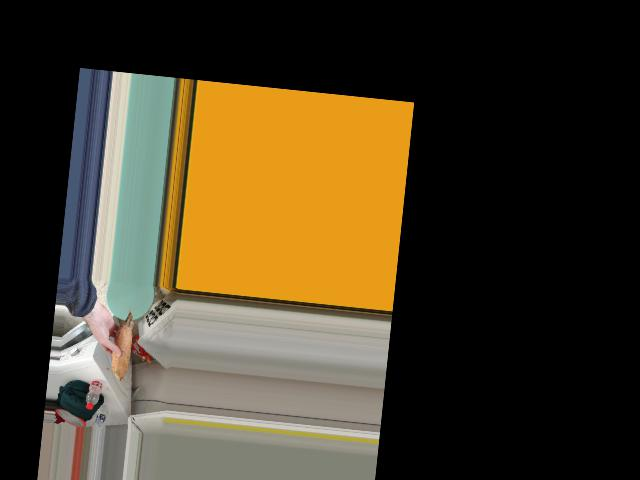sweet_potato: (106, 308, 136, 376)
